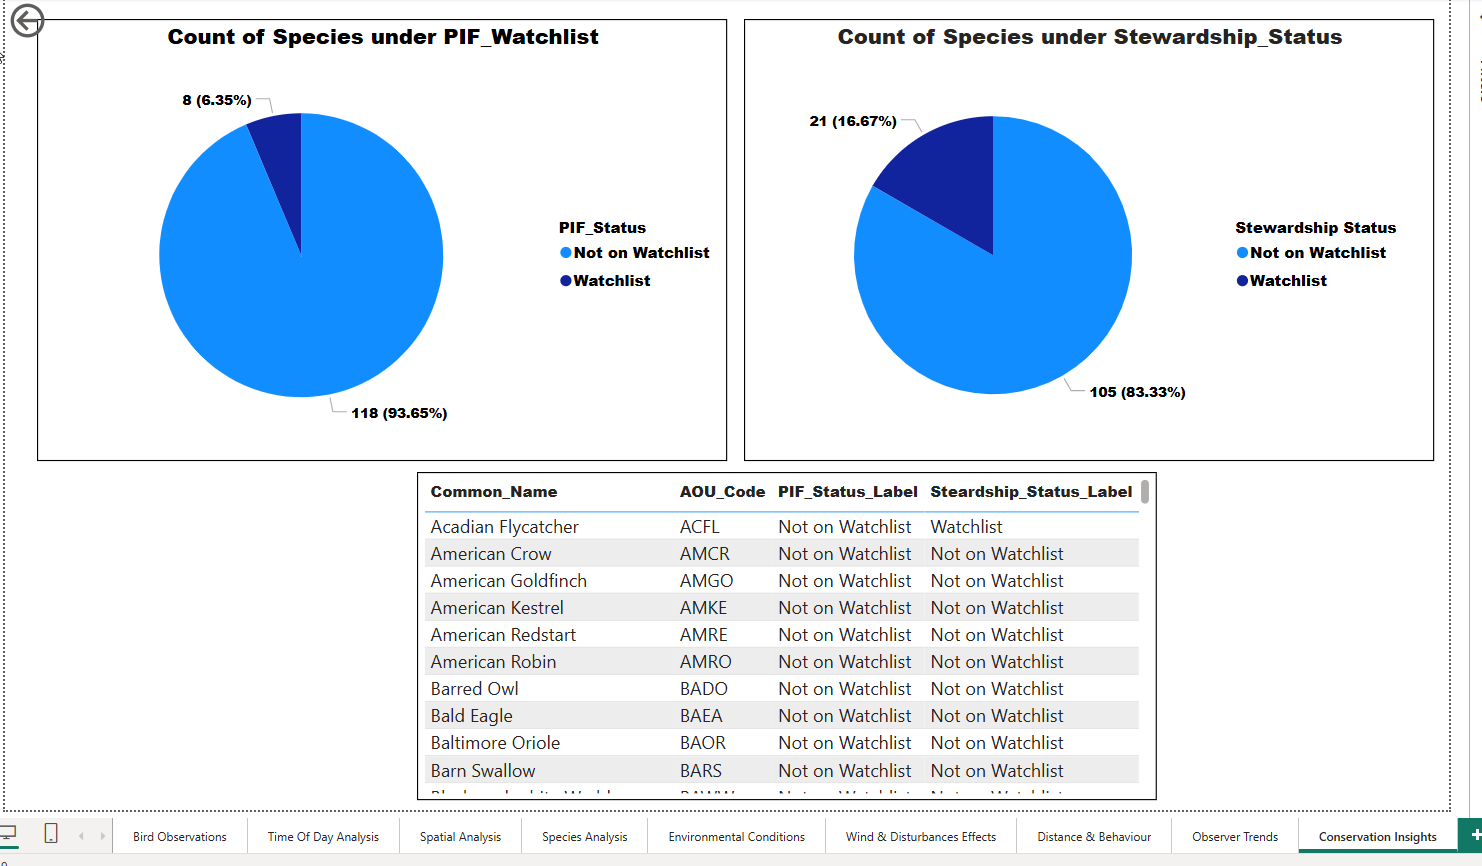

Layout of this report page (visuals, bound fields, positions):
{"tool":"powerbi","page":{"name":"Conservation Insights","canvas":[1280,720],"ordinal":8},"visuals":[{"type":"pieChart","title":"Count of Species under PIF_Watchlist","fields":{"Y":["CountNonNull(birdobservation_db species_details.Scientific_Name)"],"Category":["birdobservation_db species_details.PIF_Status_Label"]},"box":[28.4,18.9,611.6,392],"z":0},{"type":"pieChart","title":"Count of Species under Stewardship_Status","fields":{"Category":["birdobservation_db species_details.Steardship_Status_Label"],"Y":["CountNonNull(birdobservation_db species_details.Scientific_Name)"]},"box":[655.1,18.9,611.6,392],"z":1000},{"type":"tableEx","fields":{"Values":["birdobservation_db species_details.Common_Name","birdobservation_db species_details.AOU_Code","birdobservation_db species_details.PIF_Status_Label","birdobservation_db species_details.Steardship_Status_Label"]},"box":[365.4,420.5,656.2,290.8],"z":2000},{"type":"actionButton","box":[0,0,100,40],"z":3000}]}

Visuals, with their boxes on the page's 1280x720 design canvas (x1, y1, x2, y2). These are canvas units, not pixel positions in the 1482x866 screenshot, which may show the page scaled, cropped or inside an application window:
"Count of Species under PIF_Watchlist" pieChart: bbox(28, 19, 640, 411)
"Count of Species under Stewardship_Status" pieChart: bbox(655, 19, 1267, 411)
tableEx - birdobservation_db species_details.Common_Name x birdobservation_db species_details.AOU_Code: bbox(365, 420, 1022, 711)
actionButton: bbox(0, 0, 100, 40)
